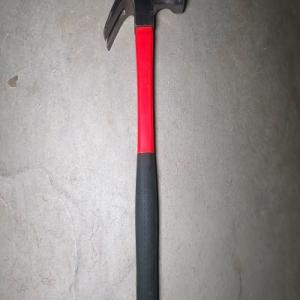Hammer: (102, 0, 185, 300)
